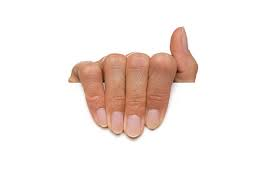hand: (62, 22, 223, 153)
